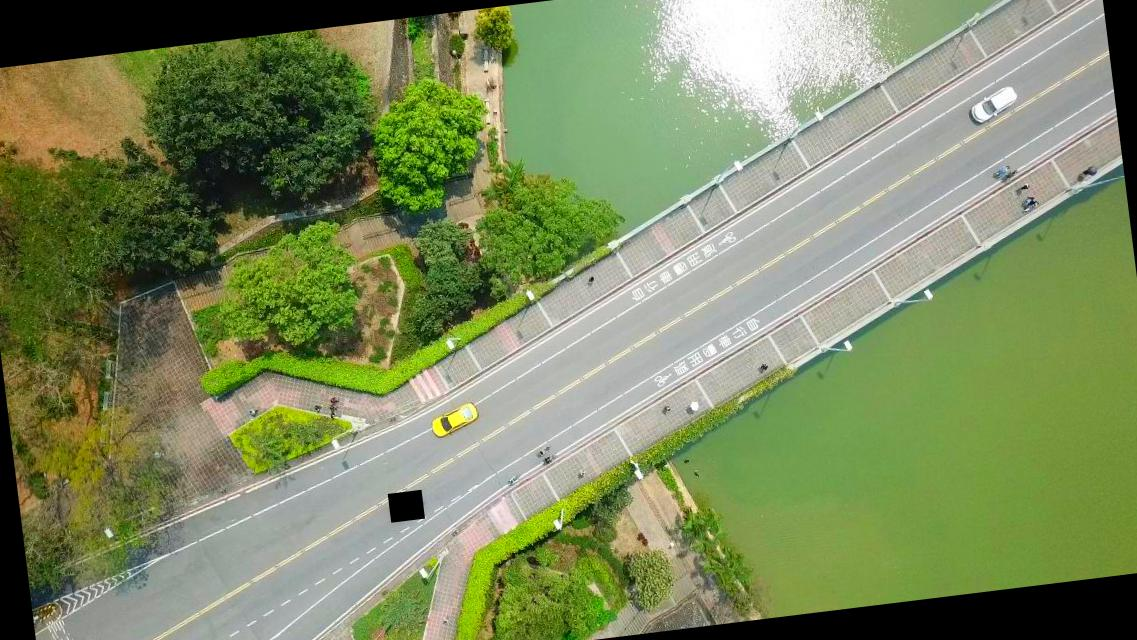vehicle: (966, 84, 1020, 124), (428, 401, 480, 438)
